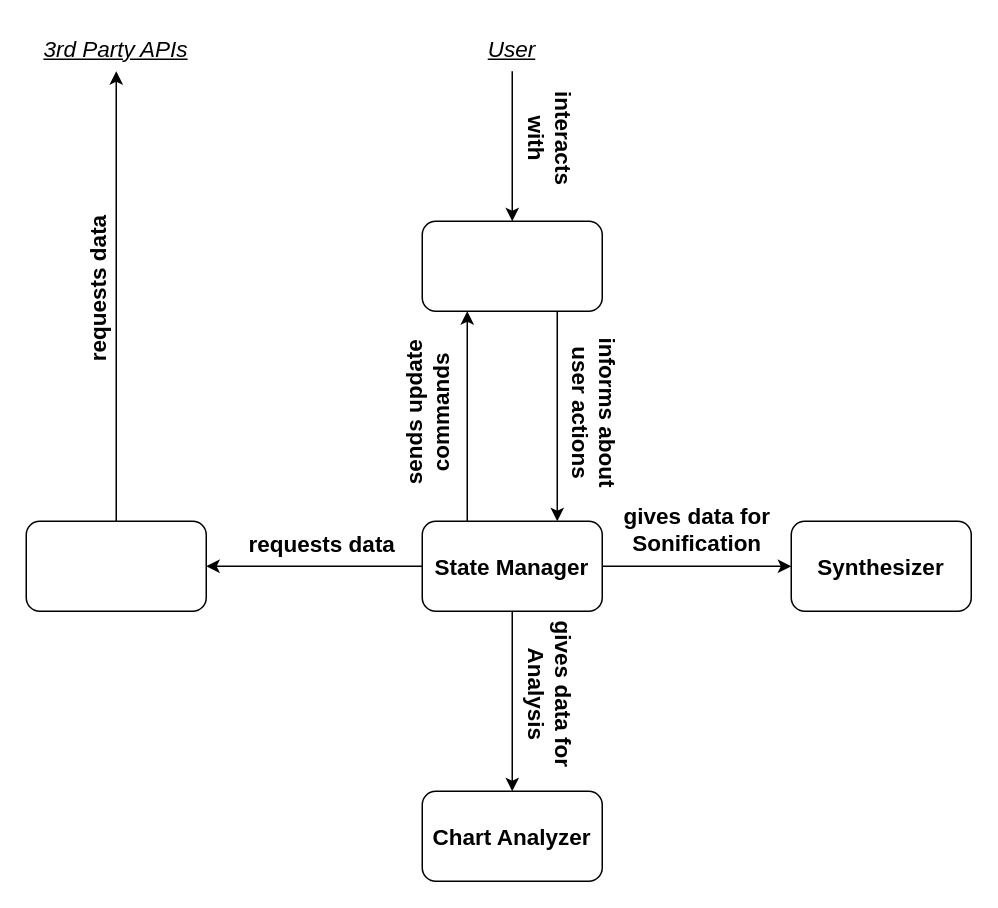
Some shapes in this 998 by 908 pixel diagram are drawn without their labels. Each missing label, with the centre of its shape:
"Data Repository" goes at (115,565).
"UI" goes at (511,265).
